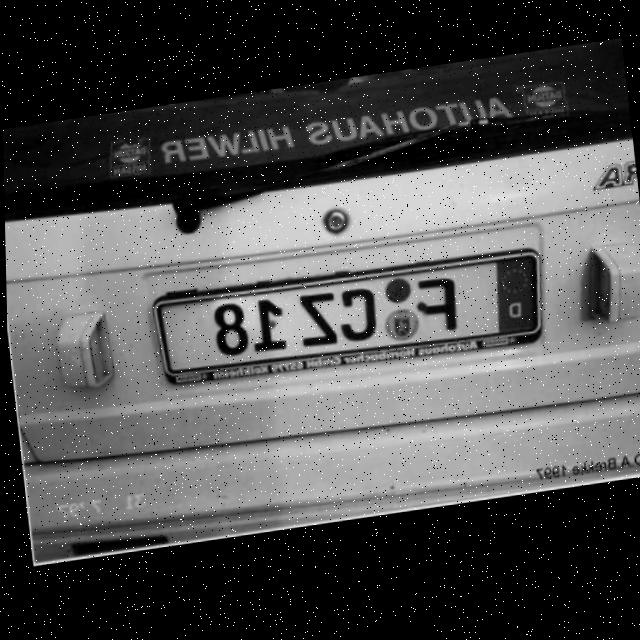license-plates: (159, 255, 540, 371)
